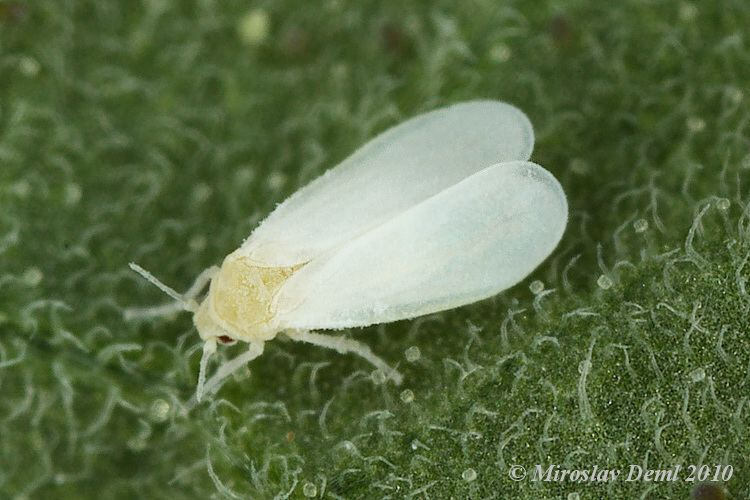Tobacco Whitefly: (162, 89, 643, 402)
